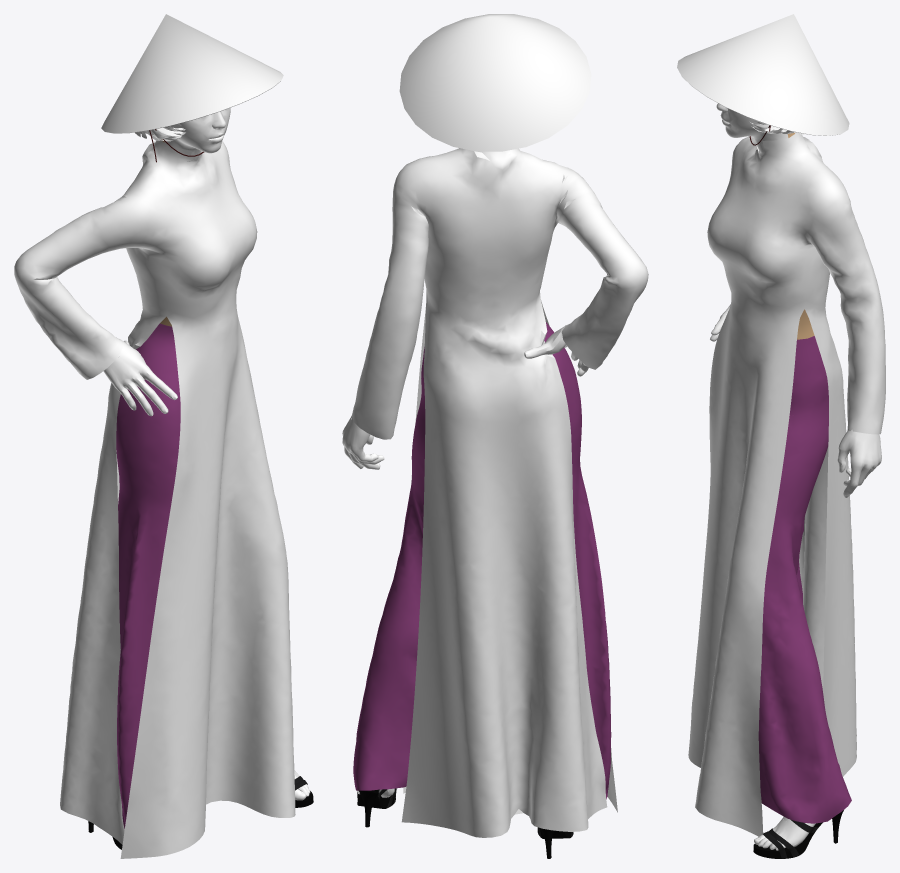
Rendered from asian_girl_aodai.FBX.
The picture shows the model from 3 angles, left to right: view 1: azimuth 30°, elevation 25°; view 2: azimuth 150°, elevation 25°; view 3: azimuth 270°, elevation 25°; orthographic projection. The views are drawn at different scales.
Parts seen in each view (by area): view 1: object #0_001, Group_022, bodyShape_skin_Shape_001; view 2: object #0_001, Group_022, bodyShape_skin_Shape_001, shoes_l_Shape_001; view 3: object #0_001, Group_022, bodyShape_skin_Shape_001, shoes_l_Shape_001.
Part boxes in pixels (x1,y1,x2,y2): object #0_001: [14, 140, 295, 858]; Group_022: [101, 14, 283, 133]; bodyShape_skin_Shape_001: [103, 107, 310, 800]; object #0_001: [352, 148, 648, 837]; Group_022: [399, 14, 591, 151]; bodyShape_skin_Shape_001: [342, 325, 588, 797]; shoes_l_Shape_001: [357, 788, 396, 827]; object #0_001: [688, 132, 885, 836]; Group_022: [677, 14, 849, 135]; bodyShape_skin_Shape_001: [710, 103, 881, 850]; shoes_l_Shape_001: [753, 810, 843, 858].
Bounding box in the file's own units: 0.6343 × 1.72 × 0.4158.
